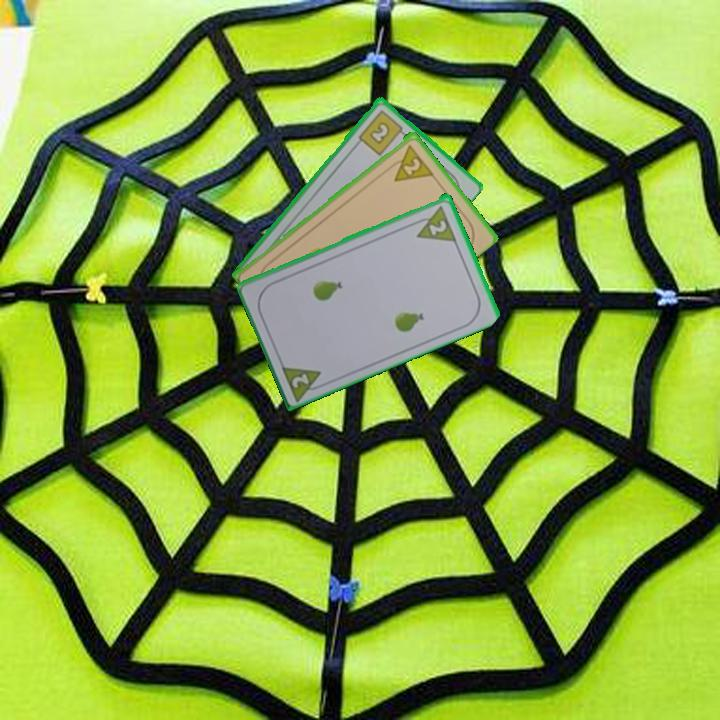2b: (355, 106, 409, 158)
2p: (384, 141, 436, 184), (426, 216, 450, 238), (288, 369, 312, 391)
